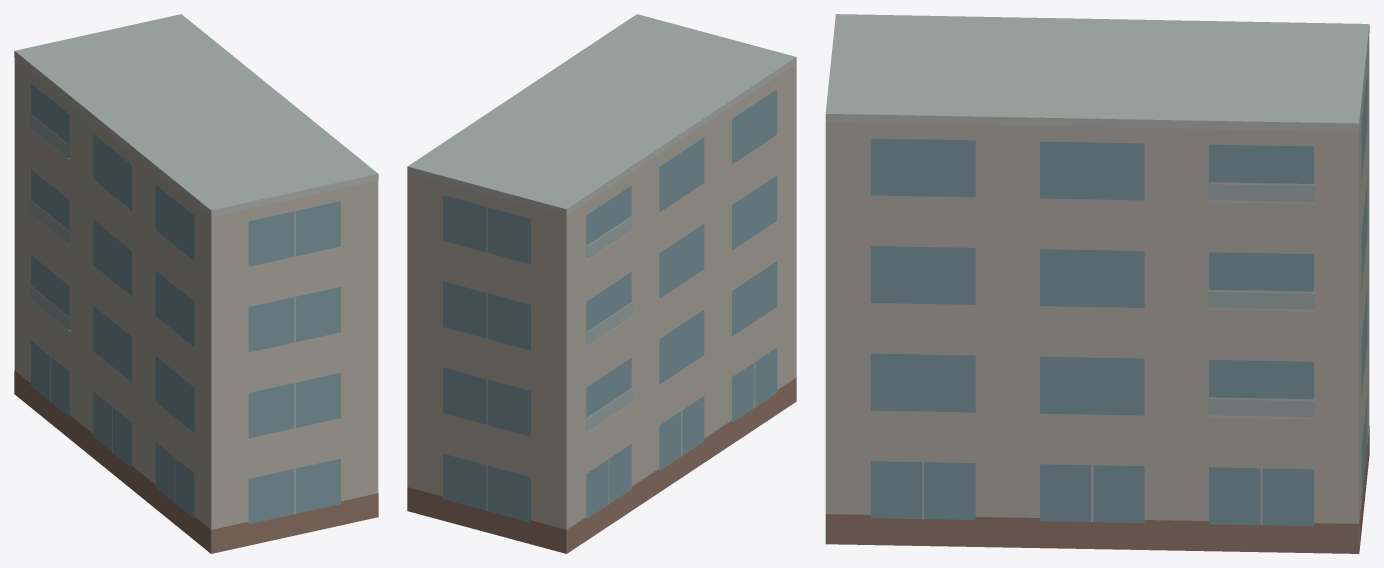
Rendered from survey-upis-32827709.glb.
3 renders of one model, left to right at view 1: azimuth 30°, elevation 25°; view 2: azimuth 150°, elevation 25°; view 3: azimuth 270°, elevation 25°, orthographic. The views are drawn at different scales.
Parts seen in each view (by area): view 1: survey-upis-32827709.tmp; view 2: survey-upis-32827709.tmp; view 3: survey-upis-32827709.tmp.
Boxes of the visible parts, x1,y1,x2,y2 form: survey-upis-32827709.tmp: [14, 14, 378, 553]; survey-upis-32827709.tmp: [407, 14, 796, 553]; survey-upis-32827709.tmp: [825, 14, 1369, 553].
Bounding box in the file's own units: 7 × 12.8 × 14.67.
